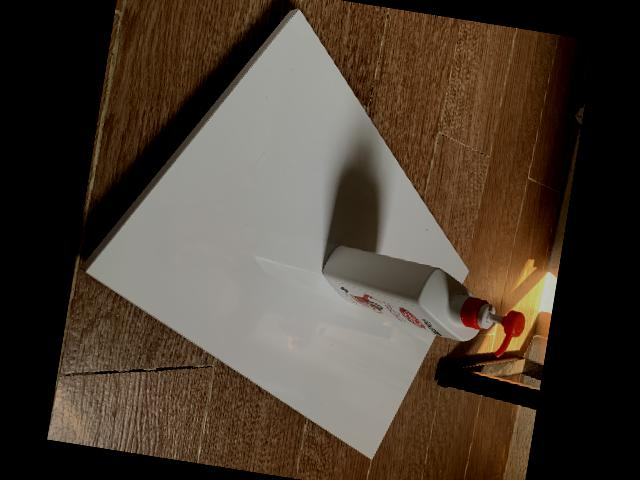life-buoy: (320, 245, 523, 358)
